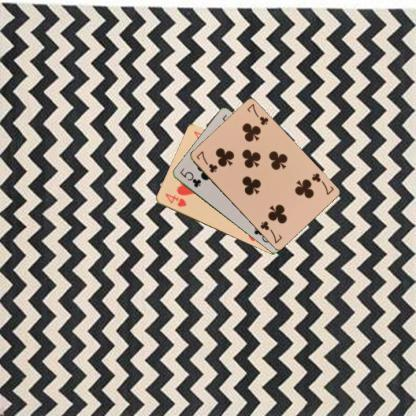4h: (162, 191, 188, 209)
5c: (176, 165, 202, 189)
7c: (308, 170, 334, 196), (194, 148, 218, 174)
